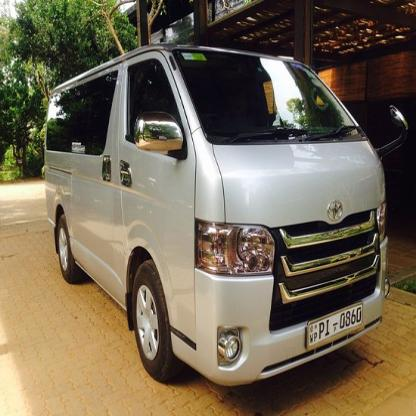number plate: (306, 303, 366, 349)
van front: (45, 49, 408, 388)
